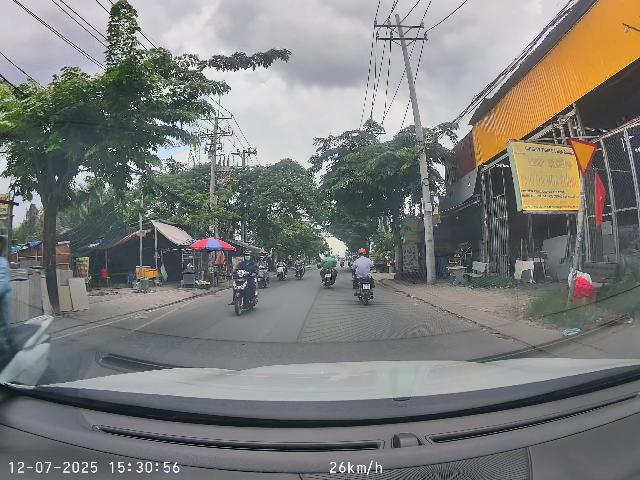208-giao-nhau-voi-duong-uu-tien: (568, 136, 597, 179)
